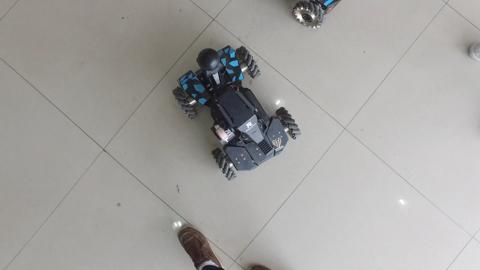chariot: (165, 42, 306, 182)
